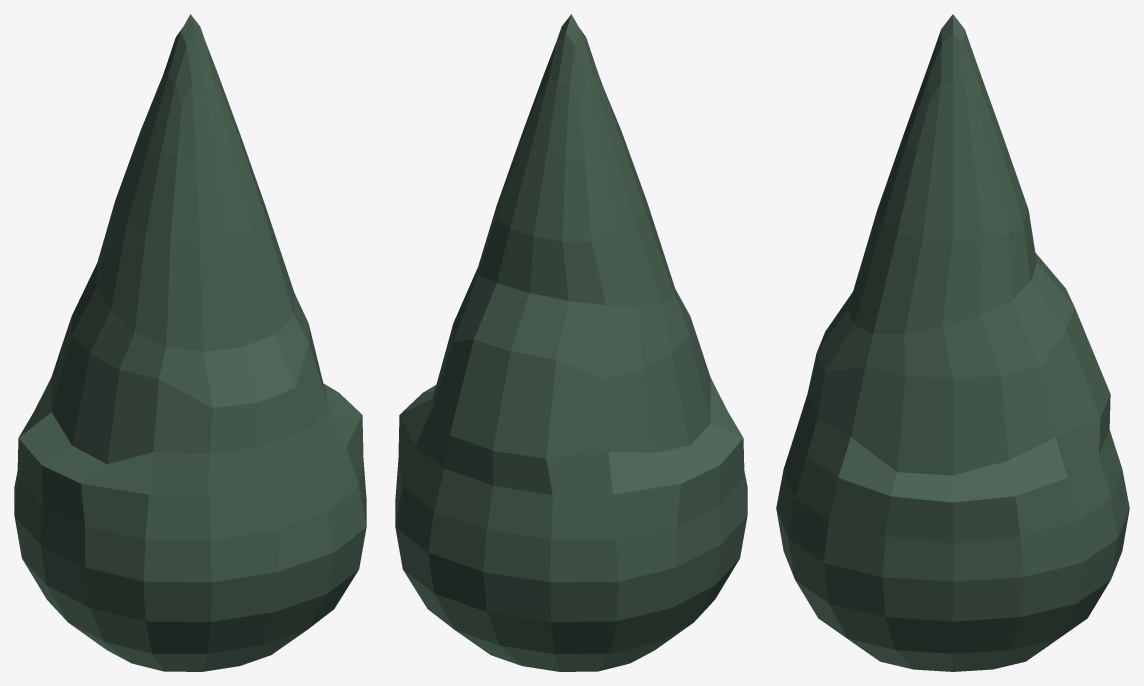
Rendered from Bush_0L.fbx.
3 renders of one model, left to right at view 1: azimuth 30°, elevation 25°; view 2: azimuth 150°, elevation 25°; view 3: azimuth 270°, elevation 25°, orthographic.
Parts seen in each view (by area): view 1: Bush_0L_Asset; view 2: Bush_0L_Asset; view 3: Bush_0L_Asset.
Boxes of the visible parts, box(x1,y1,x2,y2) form: Bush_0L_Asset: box(14, 14, 366, 671); Bush_0L_Asset: box(395, 14, 747, 671); Bush_0L_Asset: box(776, 14, 1129, 671).
Size of the model in its own units: 2.06 by 4.03 by 2.09.
